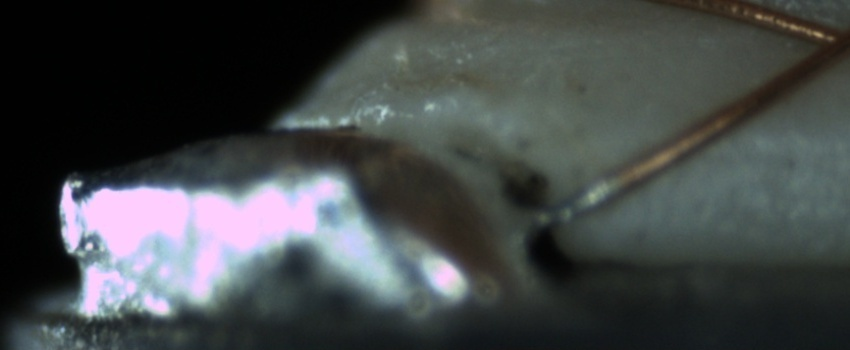CL: (780, 9, 849, 79)
DL: (693, 120, 850, 183)
TS: (534, 175, 625, 230)
TTCW: (534, 152, 660, 234)
